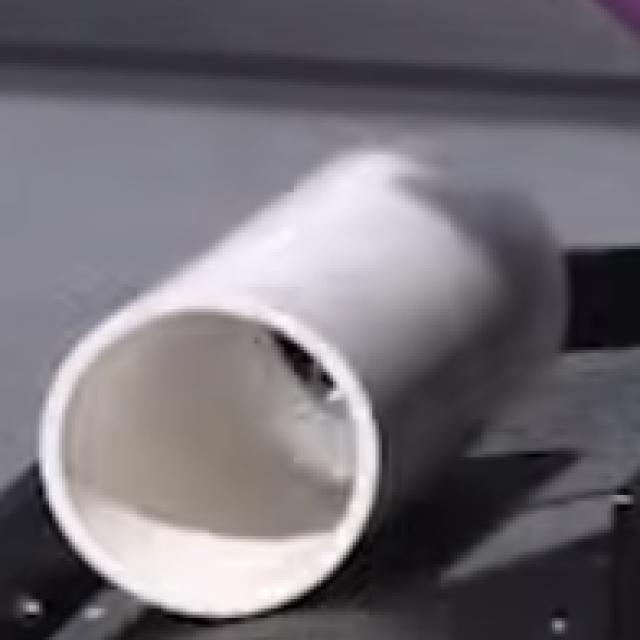Coral: (37, 148, 566, 621)
